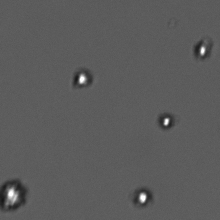Living Cell: (1, 179, 28, 213), (71, 66, 93, 89), (192, 38, 212, 59), (133, 187, 151, 206), (157, 112, 174, 130)
